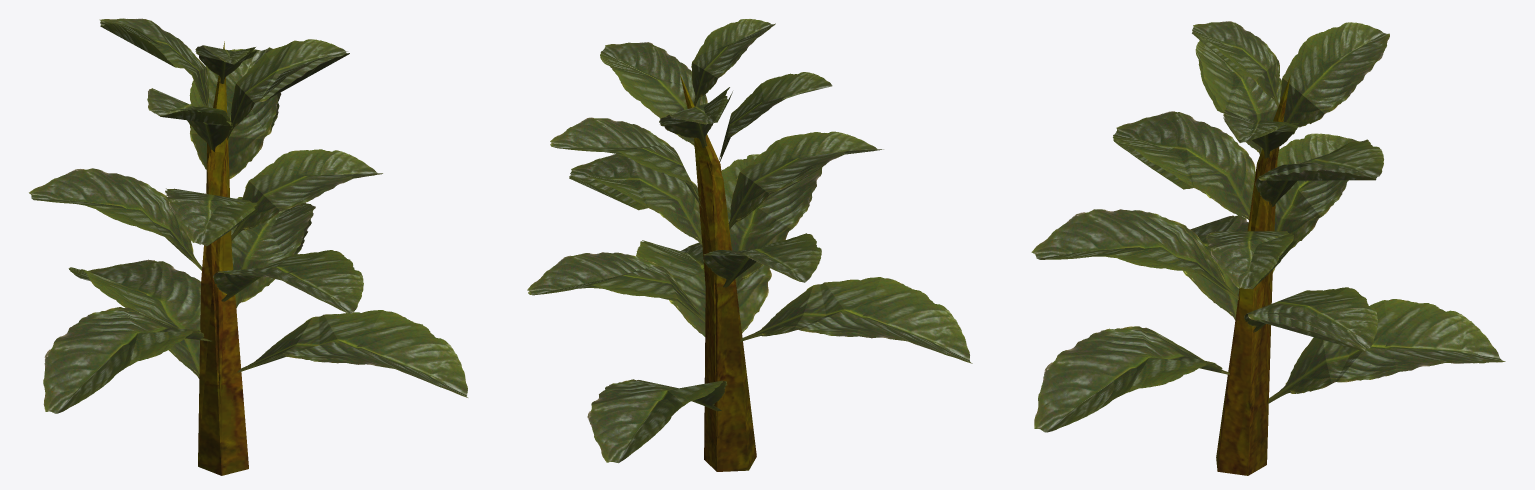
File: bigleafplant_01_tall.obj
The picture shows the model from 3 angles, left to right: view 1: azimuth 30°, elevation 25°; view 2: azimuth 150°, elevation 25°; view 3: azimuth 270°, elevation 25°; orthographic projection.
Visible parts, largest first — view 1: bigleafa64_bigleafa64.001, bigleafa224; view 2: bigleafa224, bigleafa64_bigleafa64.001; view 3: bigleafa64_bigleafa64.001, bigleafa224.
Part boxes in pixels (bbox=[...]): bigleafa64_bigleafa64.001: bbox=[29, 18, 462, 475]; bigleafa224: bbox=[29, 19, 467, 463]; bigleafa224: bbox=[527, 19, 972, 471]; bigleafa64_bigleafa64.001: bbox=[528, 23, 961, 471]; bigleafa64_bigleafa64.001: bbox=[1033, 21, 1481, 475]; bigleafa224: bbox=[1031, 22, 1505, 432].
Size of what is drawn, in the model's own units: 2.06 by 2.18 by 2.29.
Materials: 1 (1 with a texture image).
